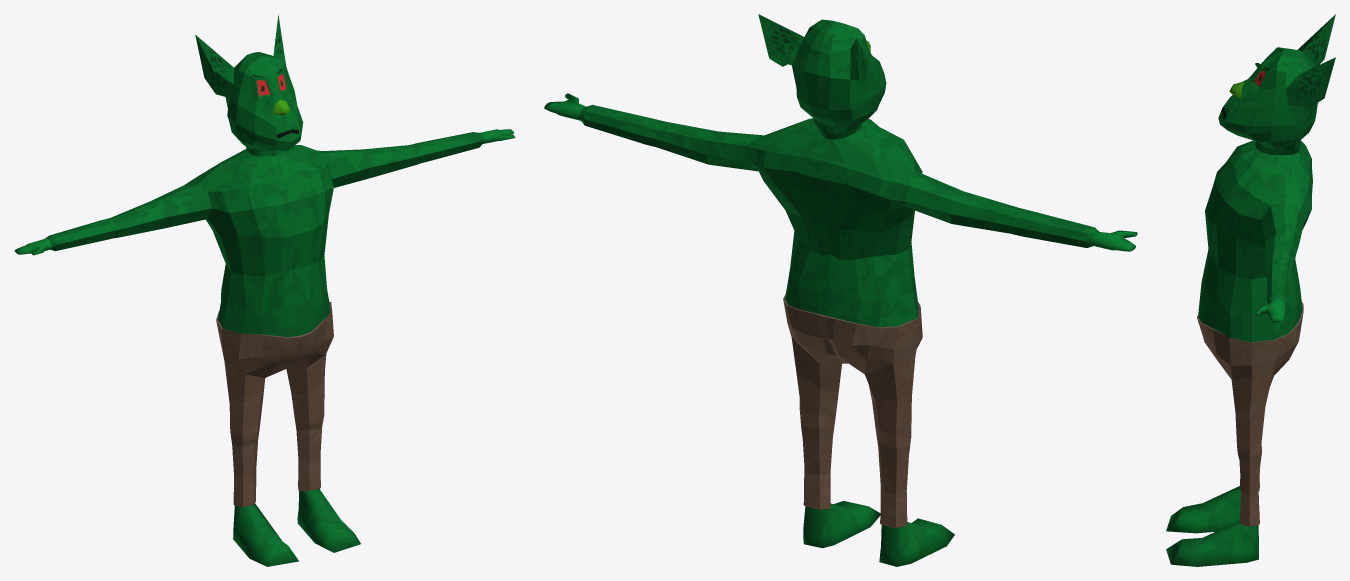
The model's file is Enemy_goblin.FBX.
3 views of the same model, side by side, from view 1: azimuth 30°, elevation 25°; view 2: azimuth 150°, elevation 25°; view 3: azimuth 270°, elevation 25° (orthographic). The views are drawn at different scales.
Parts seen in each view (by area): view 1: Goblin001; view 2: Goblin001; view 3: Goblin001.
Part boxes in pixels (x1,y1,x2,y2): Goblin001: (14, 14, 515, 566); Goblin001: (544, 14, 1137, 566); Goblin001: (1166, 14, 1335, 566).
Bounding box in the file's own units: 49.74 × 45.6 × 13.91.
